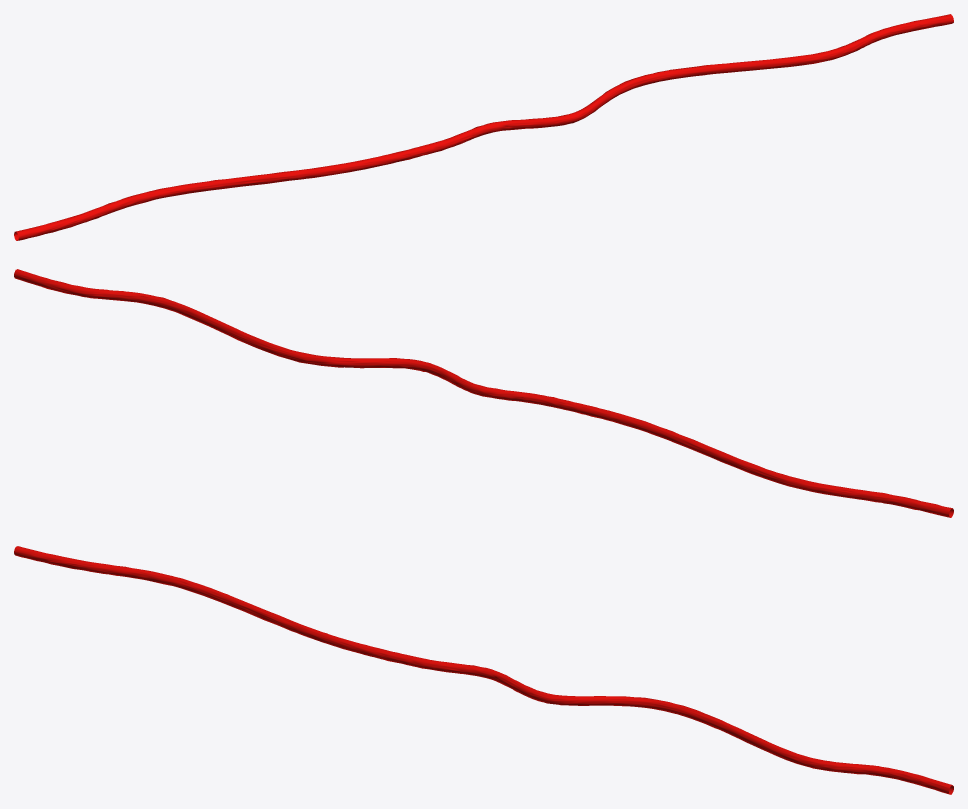
The model's file is Level_1.fbx.
3 renders of one model, top to bottom at view 1: azimuth 30°, elevation 25°; view 2: azimuth 150°, elevation 25°; view 3: azimuth 330°, elevation 25°, orthographic. The views are drawn at different scales.
Parts seen in each view (by area): view 1: Cylinder; view 2: Cylinder; view 3: Cylinder.
Part boxes in pixels (bbox=[...]): Cylinder: bbox=[14, 14, 953, 240]; Cylinder: bbox=[14, 269, 953, 517]; Cylinder: bbox=[14, 546, 953, 794].
Bounding box in the file's own units: 374895 × 3669 × 21562.
